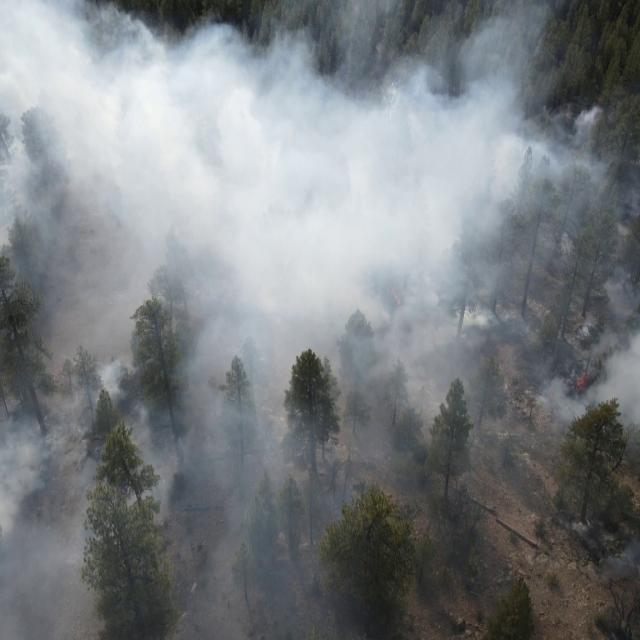fire: (559, 364, 601, 404), (388, 281, 411, 319)
smoke: (0, 0, 562, 640), (559, 86, 640, 452), (561, 502, 640, 590)
